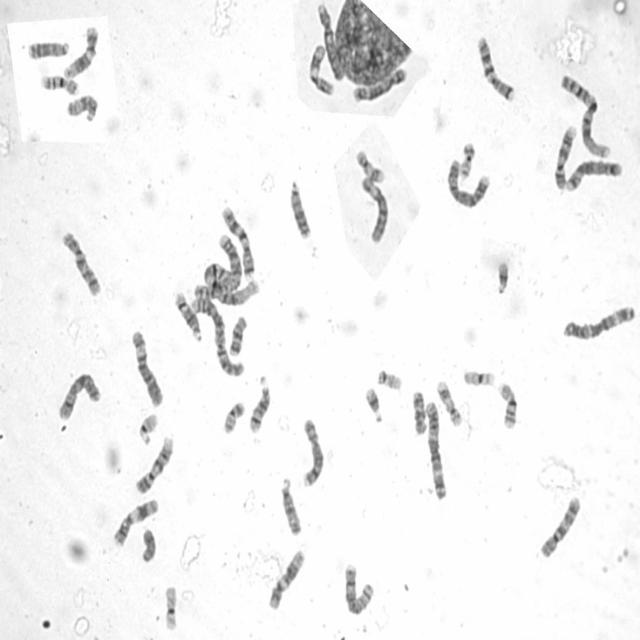A1: (558, 72, 611, 160), (203, 261, 260, 307)
A2: (188, 293, 246, 378), (192, 230, 243, 303)
A3: (560, 302, 636, 342), (423, 399, 448, 501)
B4: (445, 155, 491, 210), (315, 0, 343, 81)
B5: (350, 64, 408, 104), (564, 157, 623, 193)
C10: (59, 228, 102, 298), (538, 492, 582, 560)
C11: (111, 495, 159, 548), (307, 40, 336, 97)
C12: (266, 545, 305, 611), (61, 22, 100, 81)
C6: (128, 326, 164, 408), (358, 173, 390, 245)
C7: (474, 33, 516, 103), (219, 202, 256, 280)
C8: (340, 560, 376, 618), (300, 414, 325, 490)
C9: (134, 434, 176, 496), (552, 123, 578, 190)
D13: (287, 177, 311, 240), (26, 37, 70, 61)
D14: (172, 288, 204, 344), (246, 375, 272, 434)
D15: (278, 475, 303, 536), (65, 92, 100, 124)
E16: (497, 379, 519, 430), (39, 71, 80, 96)
E17: (434, 377, 463, 428), (354, 147, 385, 185)
E18: (226, 313, 248, 358), (411, 387, 428, 436)
F19: (162, 582, 180, 632), (461, 366, 497, 388)
F20: (220, 398, 247, 436), (457, 140, 476, 179)
G21: (362, 384, 384, 424), (494, 258, 510, 296)
G22: (136, 410, 159, 446), (375, 365, 403, 391)
X: (56, 369, 102, 422)
Y: (138, 526, 158, 563)
